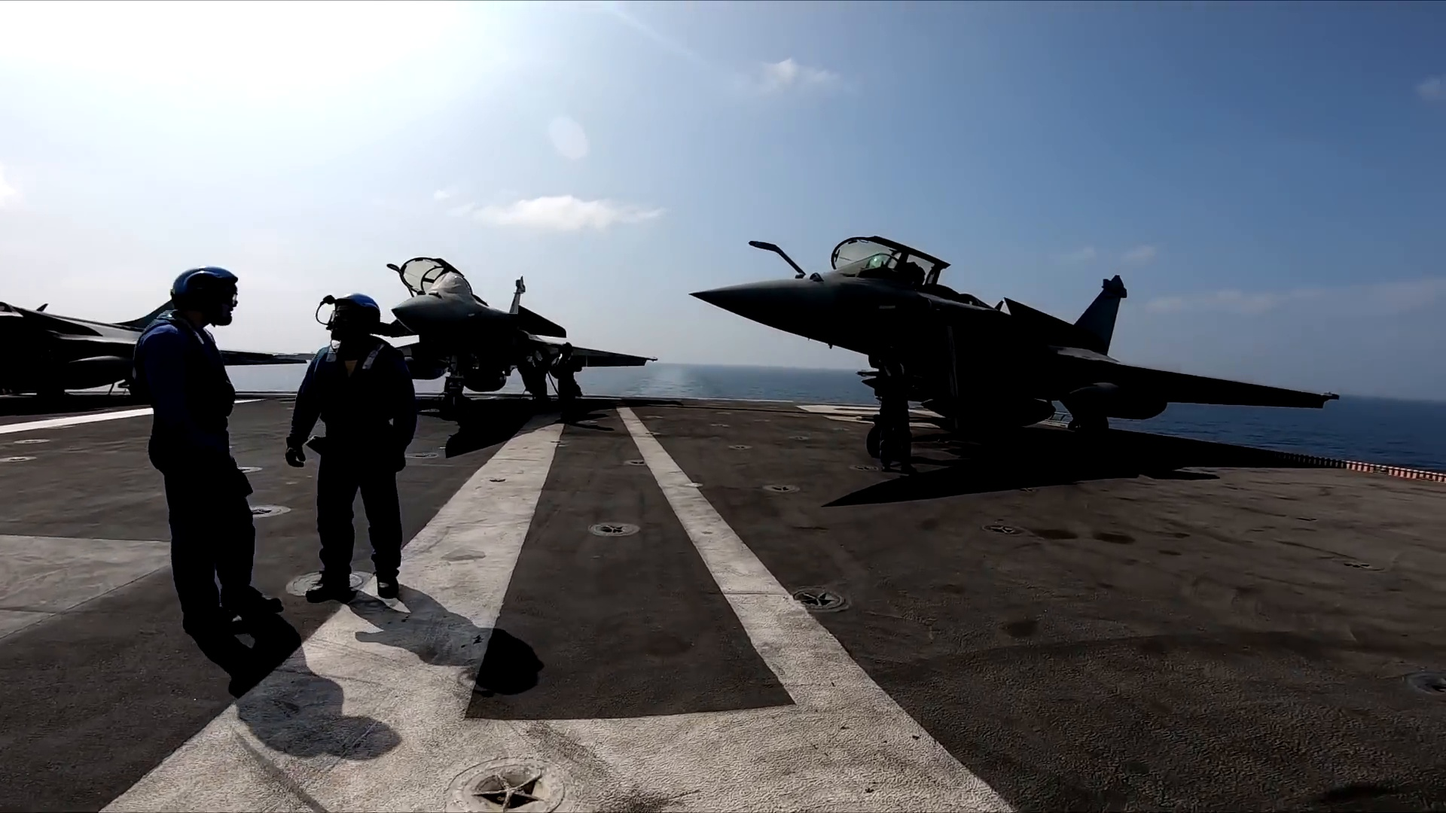Rafale: (690, 231, 1342, 463), (277, 254, 656, 410)
